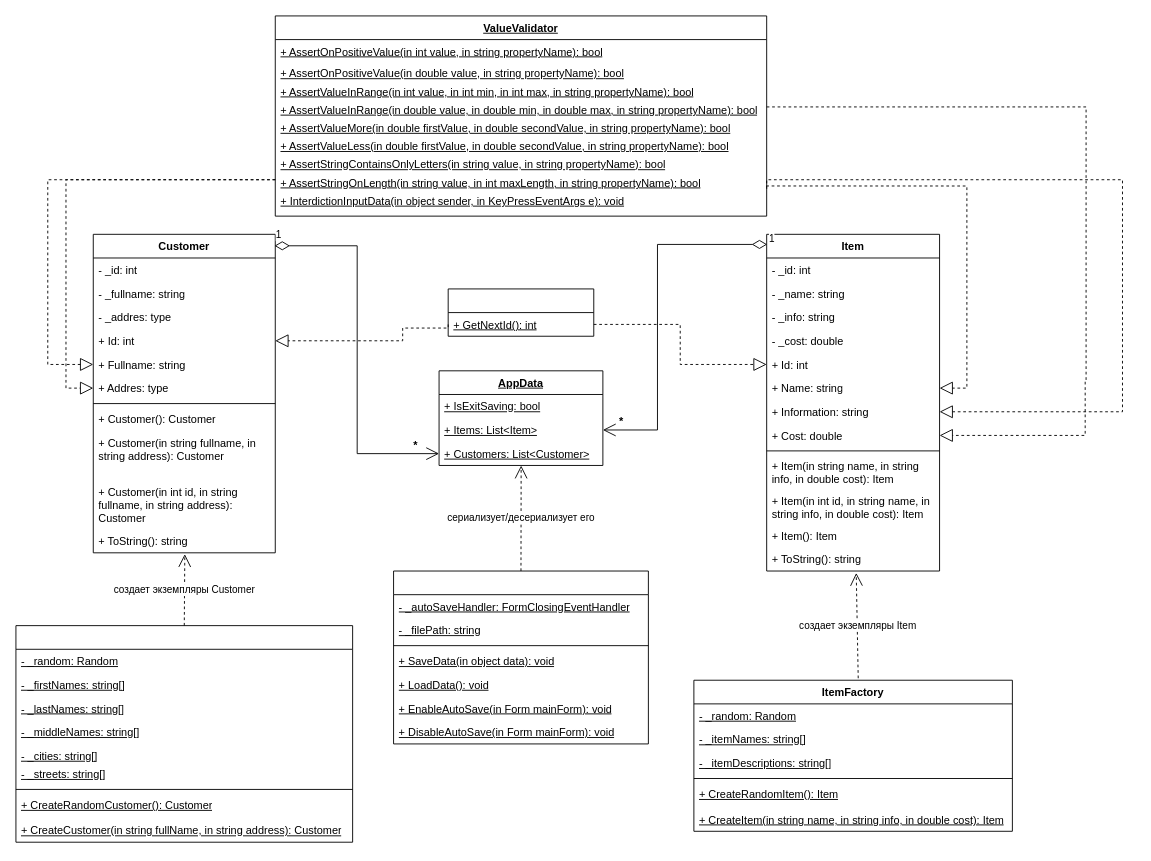
Image size: 1151x861. Some labels were removed from this diagram. Here are the shapes that lost their labels. From the top down, the box of each, then its label:
(447, 288, 594, 336): IdGenerator
(393, 570, 648, 744): ProjectSerializer
(15, 625, 353, 842): CustomerFactory
